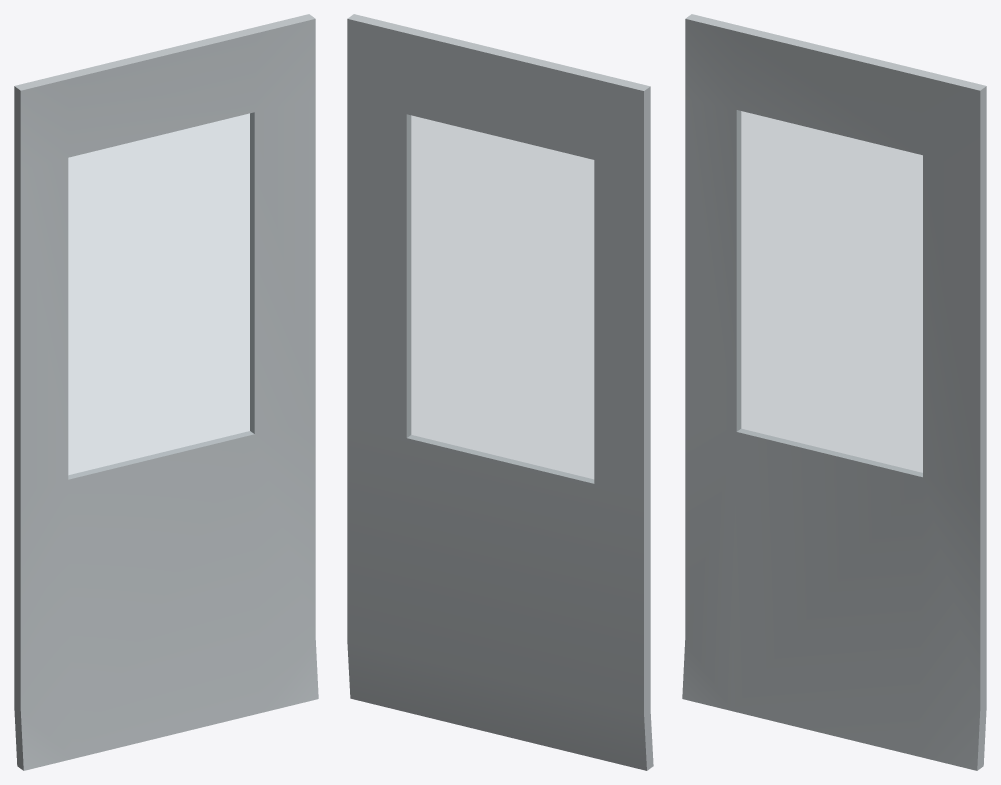
Rendered from platform-door.glb.
3 views of the same model, side by side, from view 1: azimuth 30°, elevation 25°; view 2: azimuth 150°, elevation 25°; view 3: azimuth 330°, elevation 25° (orthographic).
Parts seen in each view (by area): view 1: Dooor_Cube.002 / Door, Dooor_Cube.002 / Glass; view 2: Dooor_Cube.002 / Door, Dooor_Cube.002 / Glass; view 3: Dooor_Cube.002 / Door, Dooor_Cube.002 / Glass.
Part boxes in pixels (x1,y1,x2,y2): Dooor_Cube.002 / Door: [14, 14, 318, 770]; Dooor_Cube.002 / Glass: [68, 113, 253, 478]; Dooor_Cube.002 / Door: [347, 14, 653, 770]; Dooor_Cube.002 / Glass: [407, 115, 593, 482]; Dooor_Cube.002 / Door: [682, 14, 986, 770]; Dooor_Cube.002 / Glass: [737, 110, 922, 476].
Size of the model in its own units: 1.52 by 3.35 by 0.085.
